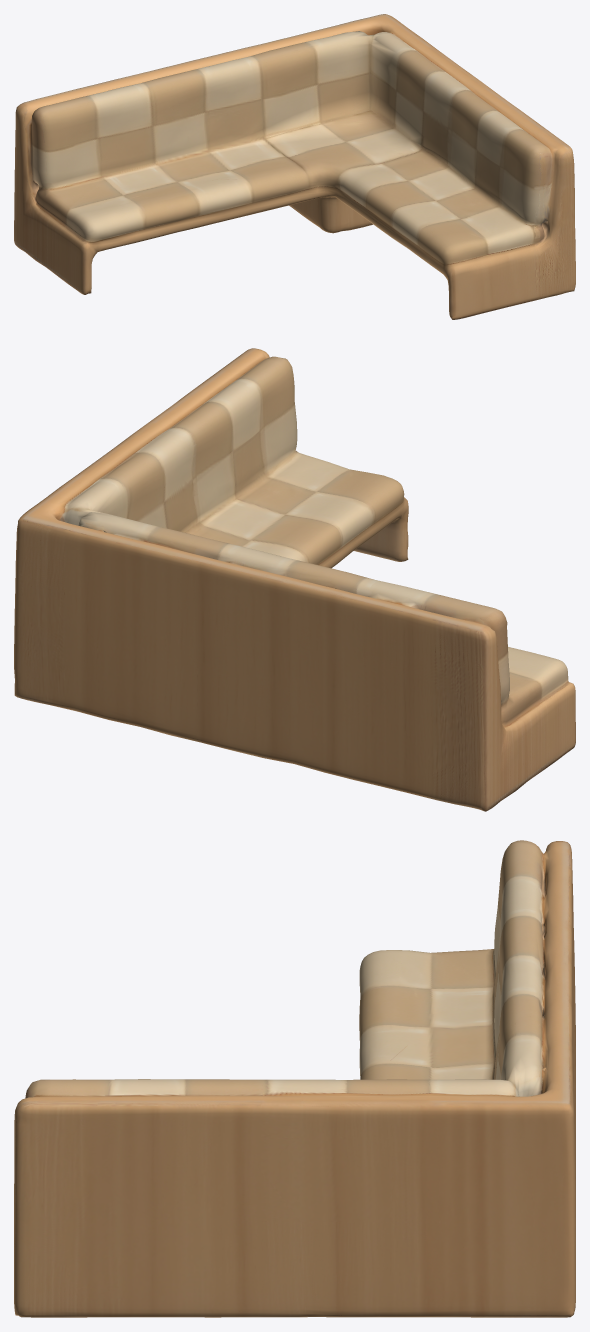
File: Beige_checke_Sofa_Large.glb
The picture shows the model from 3 angles, top to bottom: view 1: azimuth 30°, elevation 25°; view 2: azimuth 150°, elevation 25°; view 3: azimuth 270°, elevation 25°; orthographic projection. The views are drawn at different scales.
Size of the model in its own units: 1.91 by 0.7064 by 1.67.
1 material, 1 textured.
